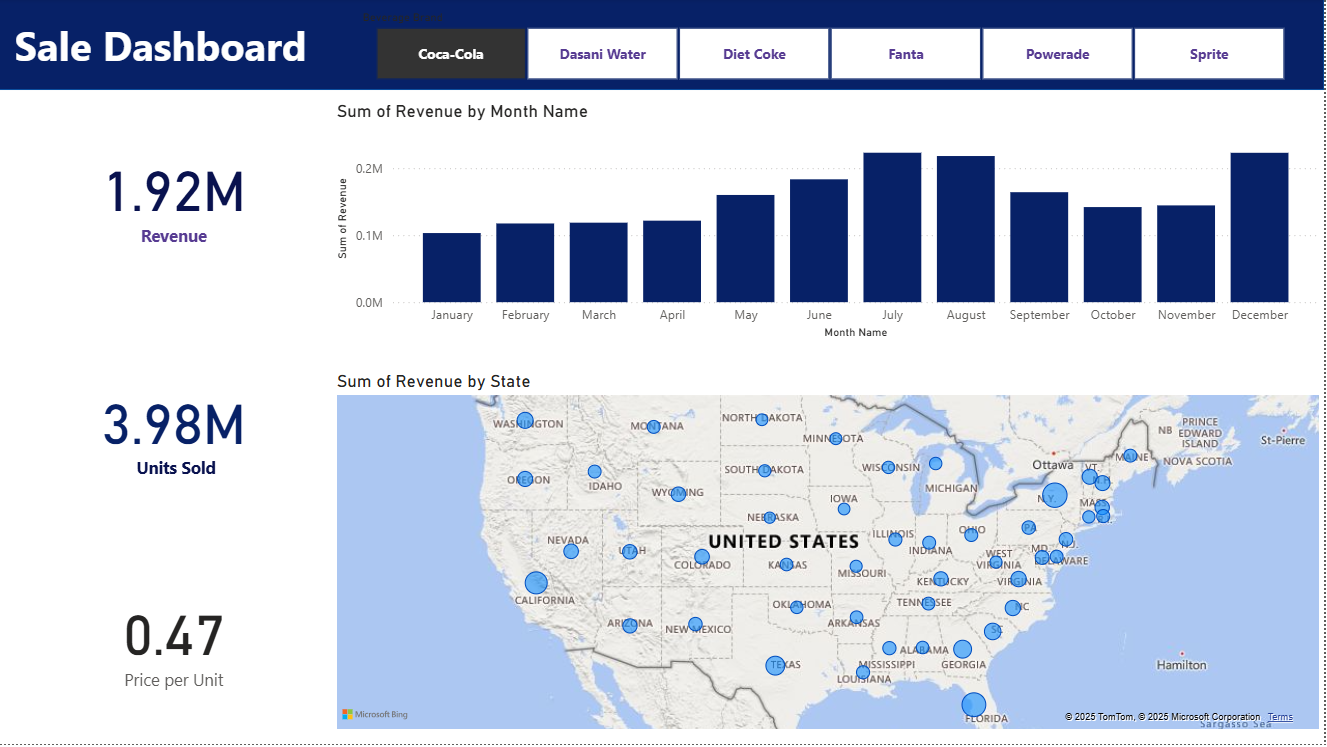

Layout of this report page (visuals, bound fields, positions):
{"tool":"powerbi","page":{"name":"Page 1","canvas":[1280,720],"ordinal":0},"visuals":[{"type":"shape","box":[0,0,1280.3,89.2],"z":0},{"type":"card","fields":{"Values":["Sum(Data.Revenue)"]},"box":[16.5,98.8,306,183.9],"z":1000},{"type":"card","fields":{"Values":["Avg(Data.Price per Unit)"]},"box":[16.5,526.9,306,183.9],"z":2000},{"type":"card","fields":{"Values":["Sum(Data.Units Sold)"]},"box":[16.5,323.8,306,183.9],"z":3000},{"type":"columnChart","fields":{"Category":["Data.Month Name"],"Y":["Sum(Data.Revenue)"]},"box":[322.5,98.8,957.8,234.6],"z":3001},{"type":"map","fields":{"Category":["Data.State"],"Size":["Sum(Data.Revenue)"]},"box":[322.5,359.5,957.8,351.3],"z":3002},{"type":"slicer","fields":{"Values":["Data.Beverage Brand"]},"box":[338.9,6.9,926.2,78.2],"z":3003}]}

Visuals, with their boxes in screenshot pixels (x1, y1, x2, y2), scaled from the page's 1280x720 canvas onto the 1327x747 screenshot:
shape: Rect(0, 0, 1326, 93)
card - Sum(Data.Revenue): Rect(17, 103, 334, 293)
card - Avg(Data.Price per Unit): Rect(17, 547, 334, 737)
card - Sum(Data.Units Sold): Rect(17, 336, 334, 527)
columnChart - Data.Month Name x Sum(Data.Revenue): Rect(334, 103, 1326, 346)
map - Data.State x Sum(Data.Revenue): Rect(334, 373, 1326, 737)
slicer - Data.Beverage Brand: Rect(351, 7, 1312, 88)
